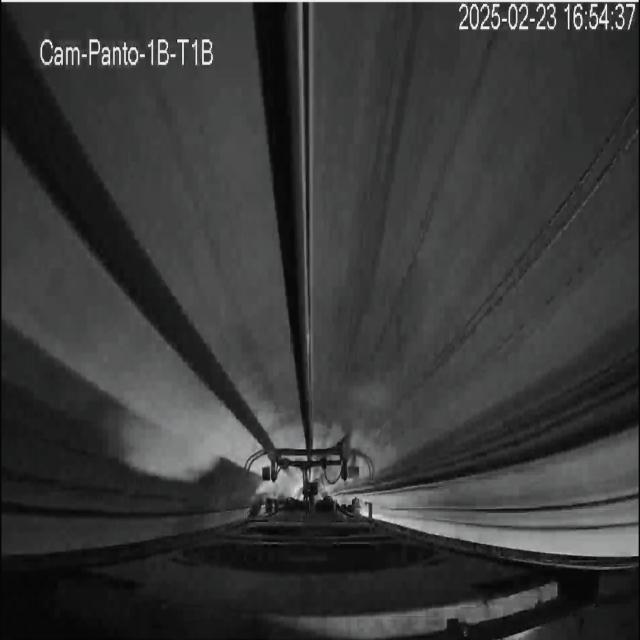Camera Stamp: (34, 27, 221, 70)
Date Stamp: (460, 3, 636, 33)
No - Spark: (245, 434, 373, 517)
